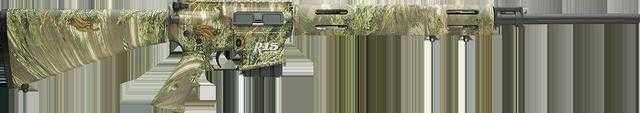heavyweapon: (0, 0, 640, 109)
